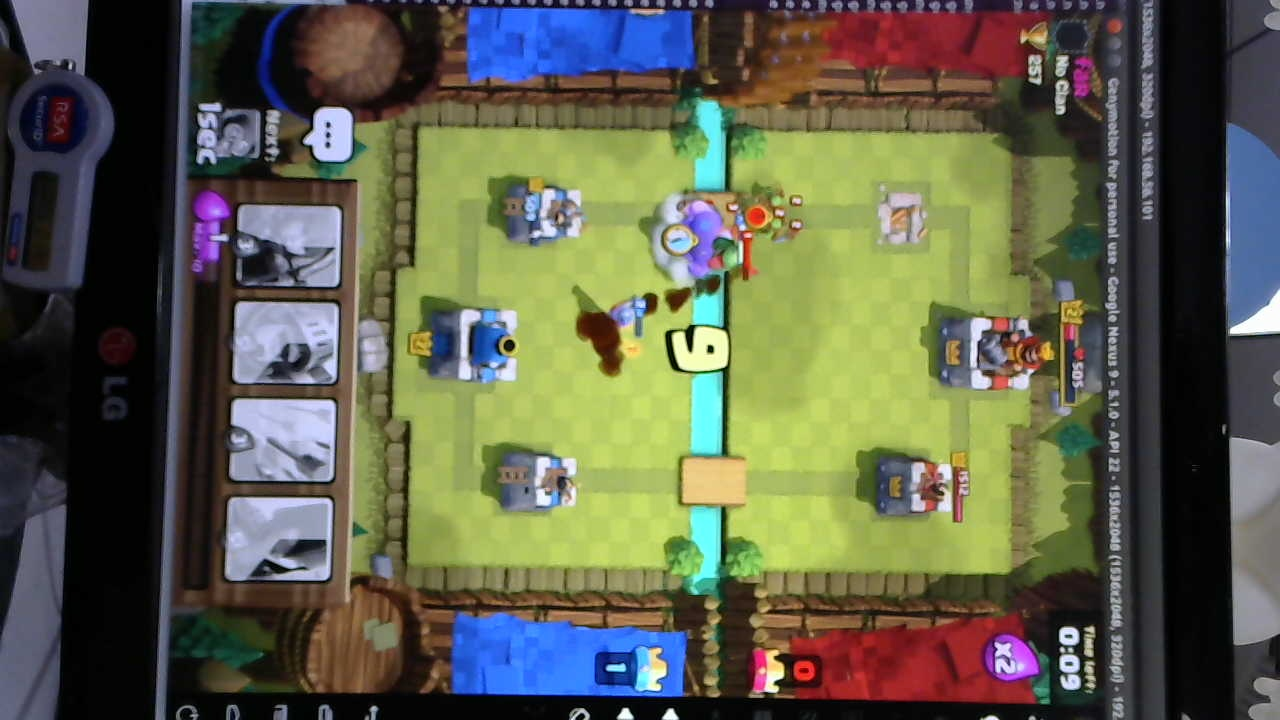arena: (500, 446, 580, 514), (505, 180, 586, 246)
darena: (871, 182, 930, 251)
dragon: (708, 228, 753, 280)
earena: (876, 452, 953, 520)
eking: (940, 309, 1048, 397)
giant: (683, 199, 733, 275)
king: (428, 309, 514, 382)
musketeer: (603, 297, 638, 330)
speargoblins: (735, 184, 806, 247)
